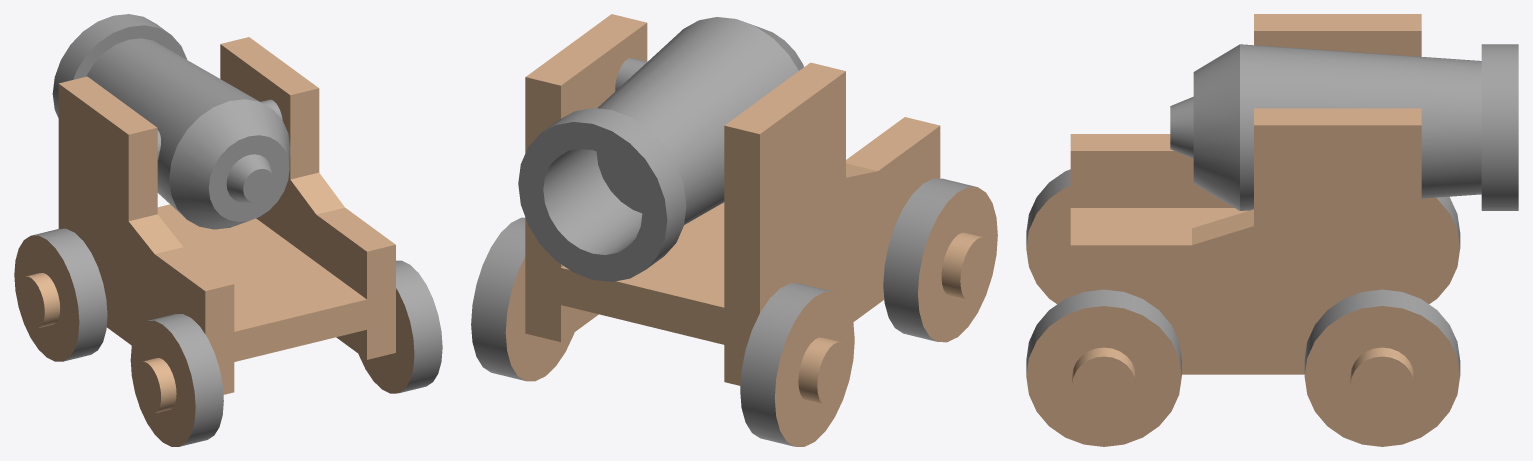
The model's file is cannonMobile.glb.
3 views of the same model, side by side, from view 1: azimuth 30°, elevation 25°; view 2: azimuth 150°, elevation 25°; view 3: azimuth 270°, elevation 25° (orthographic). The views are drawn at different scales.
Visible parts, largest first — view 1: cannonMobile_8angles, barrel 2, wheel_frontLeft, wheel_backLeft, wheel_backRight; view 2: cannonMobile_8angles, barrel 2, wheel_backLeft, wheel_frontLeft, wheel_frontRight; view 3: cannonMobile_8angles, barrel 2, wheel_frontRight, wheel_backRight, wheel_backLeft, wheel_frontLeft.
Part boxes in pixels (x1,y1,x2,y2): cannonMobile_8angles: (58,37,395,394); barrel 2: (52,14,290,229); wheel_frontLeft: (14,228,107,361); wheel_backLeft: (130,314,223,446); wheel_backRight: (358,260,442,393); cannonMobile_8angles: (525,14,940,385); barrel 2: (518,17,803,281); wheel_backLeft: (883,178,997,342); wheel_frontLeft: (740,283,854,446); wheel_frontRight: (471,217,574,381); cannonMobile_8angles: (1070,14,1421,374); barrel 2: (1170,44,1518,210); wheel_frontRight: (1304,289,1460,446); wheel_backRight: (1026,289,1181,446); wheel_backLeft: (1026,169,1070,304); wheel_frontLeft: (1421,196,1460,303).
Size of the model in its own units: 0.6329 by 0.5885 by 0.8128.
